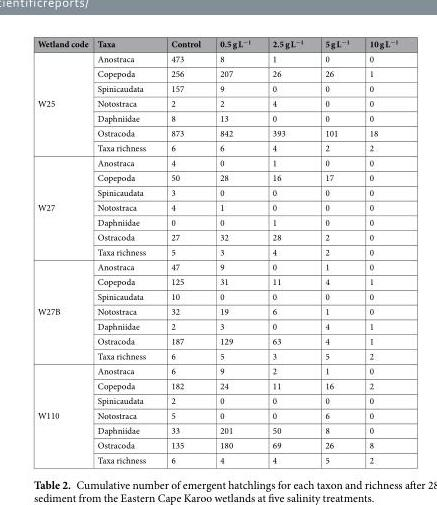table: (36, 37, 397, 465)
table column: (92, 37, 157, 465), (36, 37, 92, 465), (157, 37, 209, 465), (209, 37, 261, 465), (261, 37, 313, 465), (313, 37, 358, 465), (358, 37, 397, 465)
table column header: (36, 37, 397, 50)
table row: (36, 50, 397, 65), (36, 65, 397, 80), (36, 80, 397, 95), (36, 95, 397, 110), (36, 110, 397, 125), (36, 125, 397, 140), (36, 154, 397, 169), (36, 169, 397, 184), (36, 184, 397, 199), (36, 199, 397, 214), (36, 214, 397, 229), (36, 229, 397, 244), (36, 244, 397, 259), (36, 273, 397, 288), (36, 288, 397, 303), (36, 303, 397, 318), (36, 318, 397, 333), (36, 333, 397, 348), (36, 348, 397, 363), (36, 377, 397, 392), (36, 392, 397, 407), (36, 407, 397, 422), (36, 422, 397, 437), (36, 437, 397, 452), (36, 140, 397, 154), (36, 259, 397, 273), (36, 363, 397, 377), (36, 37, 397, 50), (36, 452, 397, 465)
table spanning cell: (36, 154, 92, 259), (36, 50, 92, 154), (36, 259, 92, 363), (36, 363, 92, 465)
